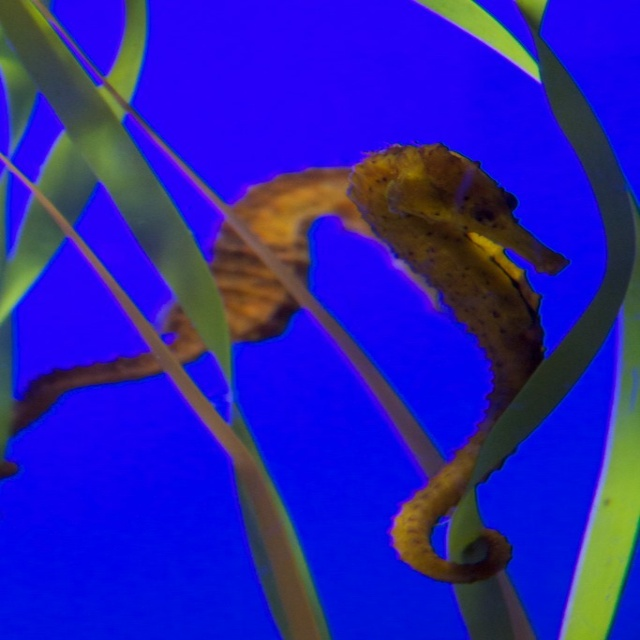Seahorse: (0, 165, 545, 479), (342, 139, 570, 586)
